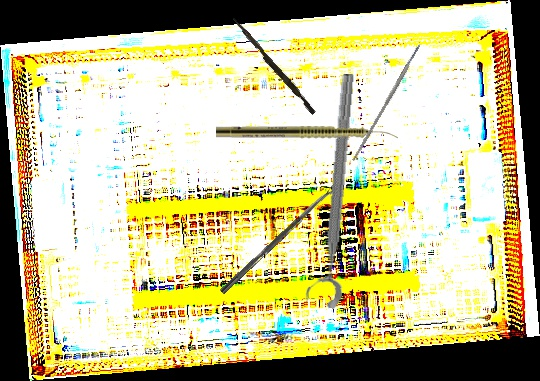Fixation Ring: (301, 71, 362, 310)
Handpiece: (216, 126, 398, 140)
Pusher: (228, 16, 319, 116)
Scalpel Handle: (351, 43, 423, 162)
Surgical Spoon: (219, 183, 339, 296)
